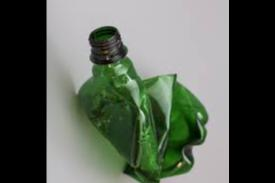Plastic: (70, 21, 215, 182)
